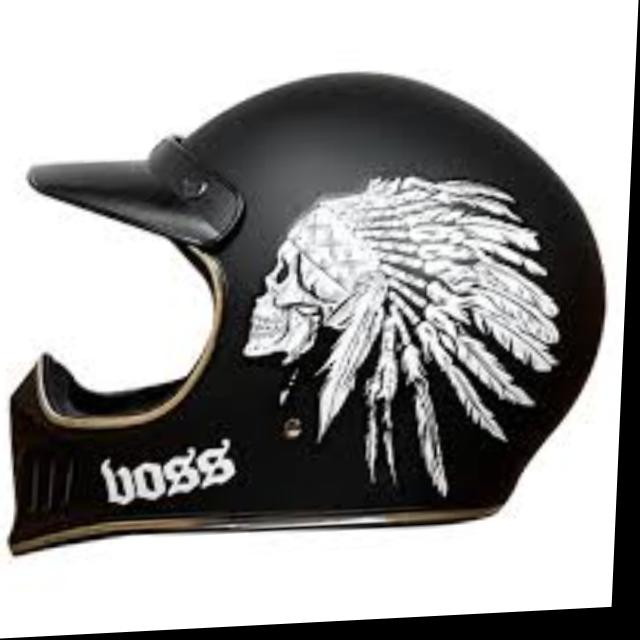motorcycle-helmets: (11, 72, 603, 553)
